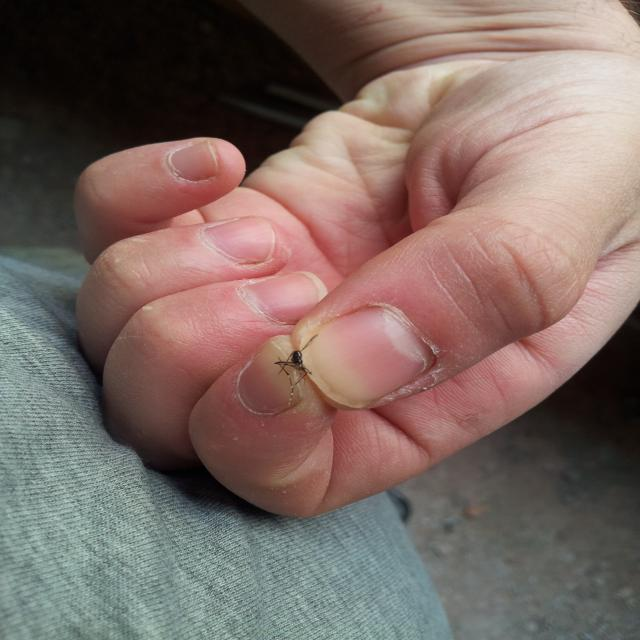albopictus: (264, 329, 336, 406)
